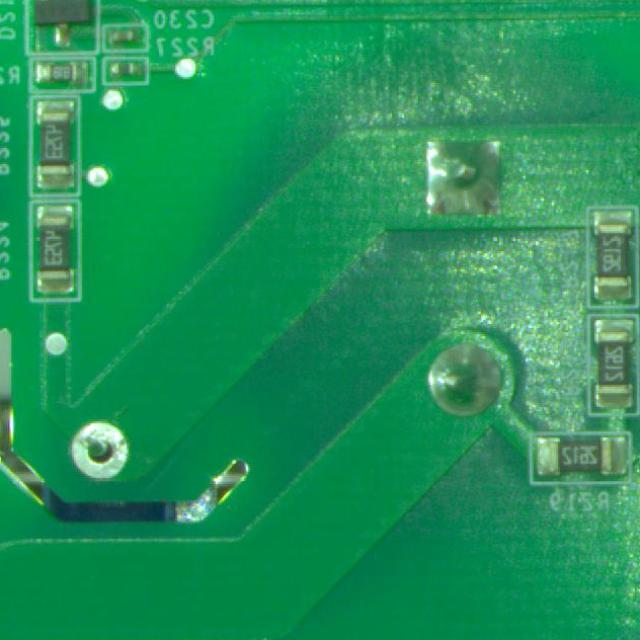Insufficient solder: (68, 416, 136, 491)
